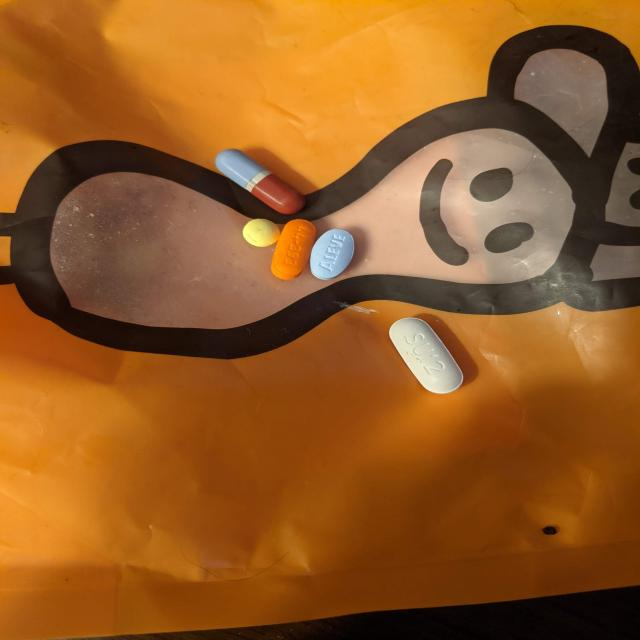non-organic waste: (215, 147, 308, 215), (388, 316, 465, 396), (270, 218, 318, 280), (309, 228, 356, 281), (242, 218, 280, 247)
